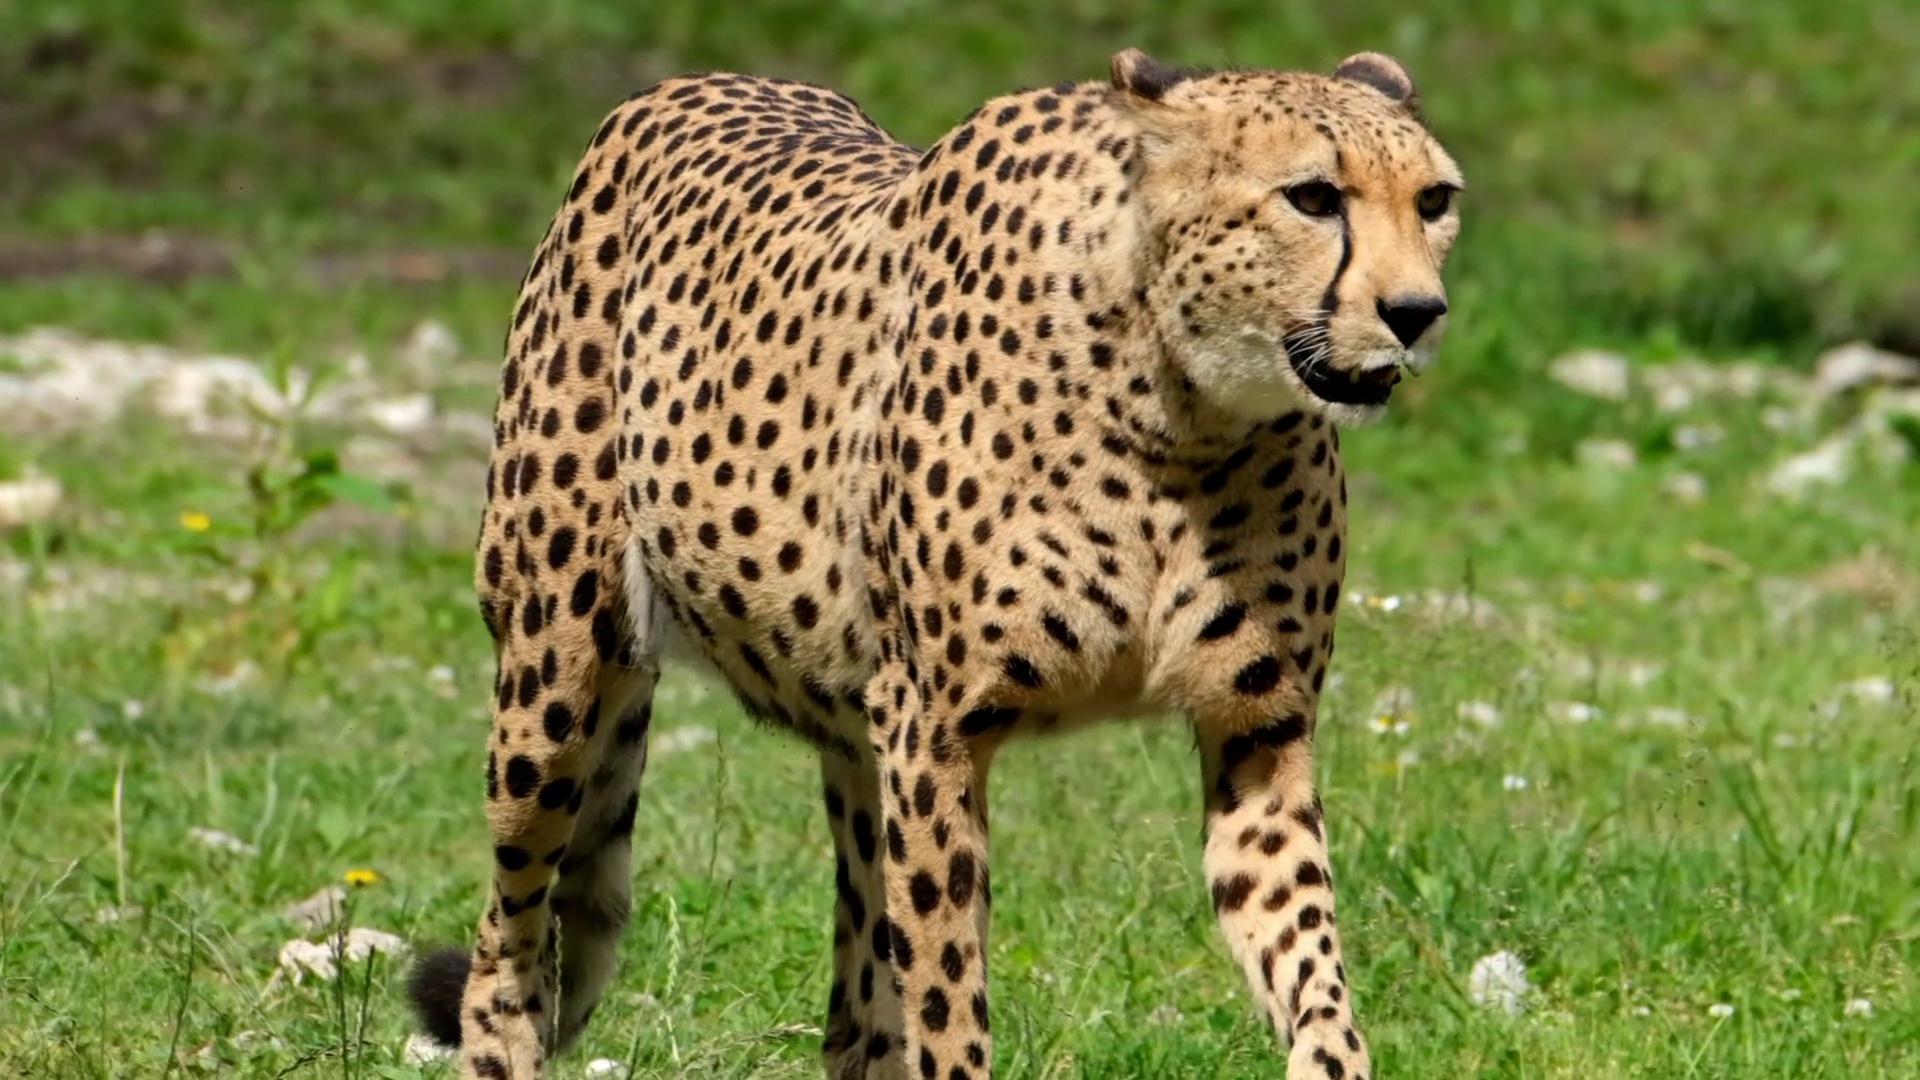Cheetah: (401, 42, 1474, 1080)
